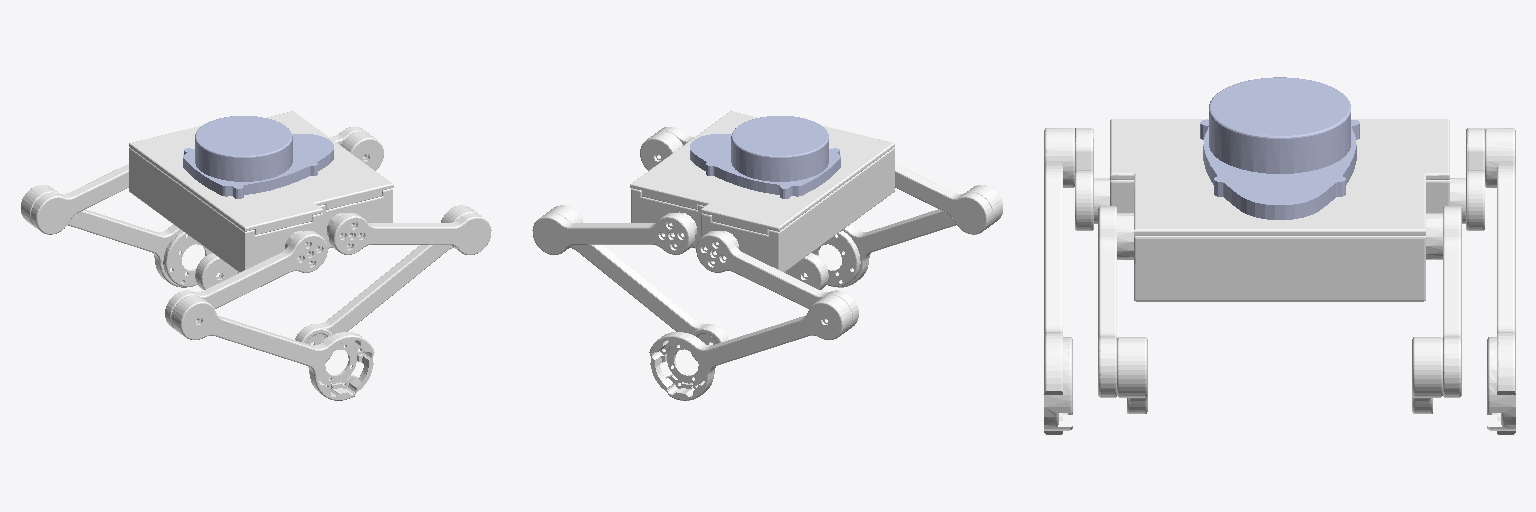
The robot description file, URDF, robot "Wheel_Robot_Sim":
<?xml version="1.0" encoding="utf-8"?>
<!-- This URDF was automatically created by SolidWorks to URDF Exporter! Originally created by [author] ([email redacted]) 
     Commit Version: 1.6.0-4-g7f85cfe  Build Version: 1.6.7995.38578
     For more information, please see http://wiki.ros.org/sw_urdf_exporter -->
<robot
  name="Wheel_Robot_Sim">
  <link
    name="base_link">
    <inertial>
      <origin
        xyz="-0.00238065061006057 2.73588787687858E-09 0.0969110593365891"
        rpy="0 0 0" />
      <mass
        value="0.458809382377931" />
      <inertia
        ixx="0.000846411676685124"
        ixy="-1.77408502350691E-11"
        ixz="8.64502818210288E-06"
        iyy="0.000619972366792605"
        iyz="1.8838609651178E-11"
        izz="0.00133794742632469" />
    </inertial>
    <visual>
      <origin
        xyz="0 0 0"
        rpy="0 0 0" />
      <geometry>
        <mesh
          filename="package://wheel_robot/meshes/base_link.STL" />
      </geometry>
      <material
        name="">
        <color
          rgba="1 1 1 1" />
      </material>
    </visual>
    <collision>
      <origin
        xyz="0 0 0"
        rpy="0 0 0" />
      <geometry>
        <mesh
          filename="package://wheel_robot/meshes/base_link.STL" />
      </geometry>
    </collision>
  </link>
  <link
    name="laser_link">
    <inertial>
      <origin
        xyz="-0.0107217166215118 1.18460811424956E-06 0.0107261325903867"
        rpy="0 0 0" />
      <mass
        value="0.0865823488601551" />
      <inertia
        ixx="2.64898105004389E-05"
        ixy="2.35953372237587E-09"
        ixz="2.66456504977664E-06"
        iyy="4.01890246867624E-05"
        iyz="7.39951577271416E-10"
        izz="5.75066929524224E-05" />
    </inertial>
    <visual>
      <origin
        xyz="0 0 0"
        rpy="0 0 0" />
      <geometry>
        <mesh
          filename="package://wheel_robot/meshes/laser_link.STL" />
      </geometry>
      <material
        name="">
        <color
          rgba="0.796078431372549 0.823529411764706 0.937254901960784 1" />
      </material>
    </visual>
    <collision>
      <origin
        xyz="0 0 0"
        rpy="0 0 0" />
      <geometry>
        <mesh
          filename="package://wheel_robot/meshes/laser_link.STL" />
      </geometry>
    </collision>
  </link>
  <joint
    name="laser_joint"
    type="fixed">
    <origin
      xyz="-0.000500000000000105 0 0.124626149791491"
      rpy="0 0 0" />
    <parent
      link="base_link" />
    <child
      link="laser_link" />
    <axis
      xyz="0 0 1" />
  </joint>
  <link
    name="imu_link">
    <inertial>
      <origin
        xyz="0.00166642390258558 7.06736775417629E-18 0.0010745454413099"
        rpy="0 0 0" />
      <mass
        value="0.00215686283305885" />
      <inertia
        ixx="1.32471275852853E-07"
        ixy="-8.85725337338877E-23"
        ixz="-5.8335032681901E-09"
        iyy="2.97972630345502E-07"
        iyz="2.36210781708205E-24"
        izz="4.27056112920458E-07" />
    </inertial>
    <visual>
      <origin
        xyz="0 0 0"
        rpy="0 0 0" />
      <geometry>
        <mesh
          filename="package://wheel_robot/meshes/imu_link.STL" />
      </geometry>
      <material
        name="">
        <color
          rgba="0.517647058823529 1 0.384313725490196 1" />
      </material>
    </visual>
    <collision>
      <origin
        xyz="0 0 0"
        rpy="0 0 0" />
      <geometry>
        <mesh
          filename="package://wheel_robot/meshes/imu_link.STL" />
      </geometry>
    </collision>
  </link>
  <joint
    name="imu_joint"
    type="fixed">
    <origin
      xyz="-0.0100000000000001 0 0.094626149791491"
      rpy="0 0 0" />
    <parent
      link="base_link" />
    <child
      link="imu_link" />
    <axis
      xyz="0 0 0" />
  </joint>
  <link
    name="left_wheel_link">
    <inertial>
      <origin
        xyz="-2.30989671834436E-11 0.00928468581982521 -1.50314066749146E-11"
        rpy="0 0 0" />
      <mass
        value="0.016863123349881" />
      <inertia
        ixx="5.00210613971604E-06"
        ixy="-3.45568268742638E-15"
        ixz="7.56287498158743E-16"
        iyy="7.63915210910664E-06"
        iyz="-1.99682563661997E-15"
        izz="5.00210614245866E-06" />
    </inertial>
    <visual>
      <origin
        xyz="0 0 0"
        rpy="0 0 0" />
      <geometry>
        <mesh
          filename="package://wheel_robot/meshes/left_wheel_link.STL" />
      </geometry>
      <material
        name="">
        <color
          rgba="0.2 0.2 0.2 1" />
      </material>
    </visual>
    <collision>
      <origin
        xyz="0 0 0"
        rpy="0 0 0" />
      <geometry>
        <mesh
          filename="package://wheel_robot/meshes/left_wheel_link.STL" />
      </geometry>
    </collision>
  </link>
  <joint
    name="left_wheel_joint"
    type="continuous">
    <origin
      xyz="0 0.0655 0.0259589732744433"
      rpy="0 0 0" />
    <parent
      link="base_link" />
    <child
      link="left_wheel_link" />
    <axis
      xyz="0 1 0" />
  </joint>
  <link
    name="right_wheel_link">
    <inertial>
      <origin
        xyz="2.67317626367891E-11 -0.0092846858828102 -1.4379178403523E-11"
        rpy="0 0 0" />
      <mass
        value="0.0168631232190387" />
      <inertia
        ixx="5.00210613051693E-06"
        ixy="-3.69005300943123E-15"
        ixz="1.05253030042746E-15"
        iyy="7.63915210593555E-06"
        iyz="2.36224078811371E-15"
        izz="5.00210612986154E-06" />
    </inertial>
    <visual>
      <origin
        xyz="0 0 0"
        rpy="0 0 0" />
      <geometry>
        <mesh
          filename="package://wheel_robot/meshes/right_wheel_link.STL" />
      </geometry>
      <material
        name="">
        <color
          rgba="0.2 0.2 0.2 1" />
      </material>
    </visual>
    <collision>
      <origin
        xyz="0 0 0"
        rpy="0 0 0" />
      <geometry>
        <mesh
          filename="package://wheel_robot/meshes/right_wheel_link.STL" />
      </geometry>
    </collision>
  </link>
  <joint
    name="right_wheel_joint"
    type="continuous">
    <origin
      xyz="0 -0.0655 0.0259589732744432"
      rpy="0 0 0" />
    <parent
      link="base_link" />
    <child
      link="right_wheel_link" />
    <axis
      xyz="0 -1 0" />
  </joint>

  <gazebo>
    <plugin name='diff_drive' filename='libgazebo_ros_diff_drive.so'>
      <ros>
        <namespace>/</namespace>
        <remapping>cmd_vel:=cmd_vel</remapping> <!-- 控制话题，默认 /cmd_vel -->
        <remapping>odom:=odom</remapping> <!-- 里程计发布话题 -->
      </ros>
      <update_rate>30</update_rate> <!-- 发布速率（单位：Hz），可选 -->
      <!-- wheels --> <!-- 左右轮子链接名，需与你的 URDF 保持一致 -->
      <left_joint>left_wheel_joint</left_joint>
      <right_joint>right_wheel_joint</right_joint>
      <!-- kinematics -->
      <wheel_separation>0.174</wheel_separation> <!-- 轮距：左轮和右轮之间的距离（单位：米） -->
      <wheel_diameter>0.026</wheel_diameter> <!-- 轮子半径（单位：米） -->
      <!-- limits -->
      <max_wheel_torque>20</max_wheel_torque>
      <max_wheel_acceleration>1.0</max_wheel_acceleration>
      <!-- output -->
      <publish_odom>true</publish_odom>
      <publish_odom_tf>true</publish_odom_tf>
      <publish_wheel_tf>false</publish_wheel_tf> <!-- 发布里程计 TF（True/False） -->
      <odometry_frame>odom</odometry_frame> <!-- 发布里程计变换 -->
      <robot_base_frame>base_link</robot_base_frame> <!-- 机器人底盘的参考连杆 -->
    </plugin>
    <plugin name="joint_state" filename="libgazebo_ros_joint_state_publisher.so">
      <ros>
        <remapping>~/out:=joint_states</remapping>
      </ros>
      <update_rate>30</update_rate>
      <joint_name>left_wheel_joint</joint_name>
      <joint_name>right_wheel_joint</joint_name>
    </plugin>
  </gazebo>
  <gazebo reference="imu_link">
    <sensor name="imu_sensor" type="imu">
    <plugin filename="libgazebo_ros_imu_sensor.so" name="imu">
        <ros>
          <namespace>/</namespace>
          <remapping>~/out:=imu</remapping>
        </ros>
        <initial_orientation_as_reference>false</initial_orientation_as_reference>
      </plugin>
      <always_on>true</always_on>
      <update_rate>100</update_rate>
      <visualize>true</visualize>
      <imu>
        <angular_velocity>
          <x>
            <noise type="gaussian">
              <mean>0.0</mean>
              <stddev>2e-4</stddev>
              <bias_mean>0.0000075</bias_mean>
              <bias_stddev>0.0000008</bias_stddev>
            </noise>
          </x>
          <y>
            <noise type="gaussian">
              <mean>0.0</mean>
              <stddev>2e-4</stddev>
              <bias_mean>0.0000075</bias_mean>
              <bias_stddev>0.0000008</bias_stddev>
            </noise>
          </y>
          <z>
            <noise type="gaussian">
              <mean>0.0</mean>
              <stddev>2e-4</stddev>
              <bias_mean>0.0000075</bias_mean>
              <bias_stddev>0.0000008</bias_stddev>
            </noise>
          </z>
        </angular_velocity>
        <linear_acceleration>
          <x>
            <noise type="gaussian">
              <mean>0.0</mean>
              <stddev>1.7e-2</stddev>
              <bias_mean>0.1</bias_mean>
              <bias_stddev>0.001</bias_stddev>
            </noise>
          </x>
          <y>
            <noise type="gaussian">
              <mean>0.0</mean>
              <stddev>1.7e-2</stddev>
              <bias_mean>0.1</bias_mean>
              <bias_stddev>0.001</bias_stddev>
            </noise>
          </y>
          <z>
            <noise type="gaussian">
              <mean>0.0</mean>
              <stddev>1.7e-2</stddev>
              <bias_mean>0.1</bias_mean>
              <bias_stddev>0.001</bias_stddev>
            </noise>
          </z>
        </linear_acceleration>
      </imu>
    </sensor>
  </gazebo>
  <gazebo reference="laser_link">
    <sensor name="laser_sensor" type="ray">
    <always_on>true</always_on>
    <visualize>true</visualize>
    <update_rate>5</update_rate>
    <pose>0 0 0.075 0 0 0</pose>
    <ray>
        <scan>
          <horizontal>
            <samples>360</samples>
            <resolution>1.000000</resolution>
            <min_angle>0.000000</min_angle>
            <max_angle>6.280000</max_angle>
          </horizontal>
        </scan>
        <range>
          <min>0.120000</min>
          <max>3.5</max>
          <resolution>0.015000</resolution>
        </range>
        <noise>
          <type>gaussian</type>
          <mean>0.0</mean>
          <stddev>0.01</stddev>
        </noise>
    </ray>
    <plugin name="laserscan" filename="libgazebo_ros_ray_sensor.so">
      <ros>
        <remapping>~/out:=scan</remapping>
      </ros>
      <output_type>sensor_msgs/LaserScan</output_type>
      <frame_name>laser_link</frame_name>
    </plugin>
    </sensor>
  </gazebo>
</robot>

--- What the picture shows (computed from the rendered views, not written in the file) ---
The picture shows the robot from 3 angles, left to right: view 1: azimuth 30°, elevation 25°; view 2: azimuth 150°, elevation 25°; view 3: azimuth 270°, elevation 25°; orthographic projection.
Robot: Wheel_Robot_Sim — 5 links, 4 joints (2 continuous, 2 fixed); root link base_link; default pose: every joint at zero.
Links seen in each view (by area): view 1: base_link, laser_link; view 2: base_link, laser_link; view 3: base_link, laser_link.
Boxes of the visible links, bbox=[...] form: base_link: bbox=[21, 111, 491, 400]; laser_link: bbox=[183, 116, 333, 198]; base_link: bbox=[532, 111, 1002, 400]; laser_link: bbox=[690, 116, 840, 198]; base_link: bbox=[1044, 119, 1515, 434]; laser_link: bbox=[1200, 77, 1359, 219].
Size in the robot's own frame: 0.2372 by 0.201 by 0.1452 metres.
Meshes: 5 distinct files referenced, 3 mesh visuals loaded (3 binary STL); not drawn: 2 (reference not matched to a file when rendering).
